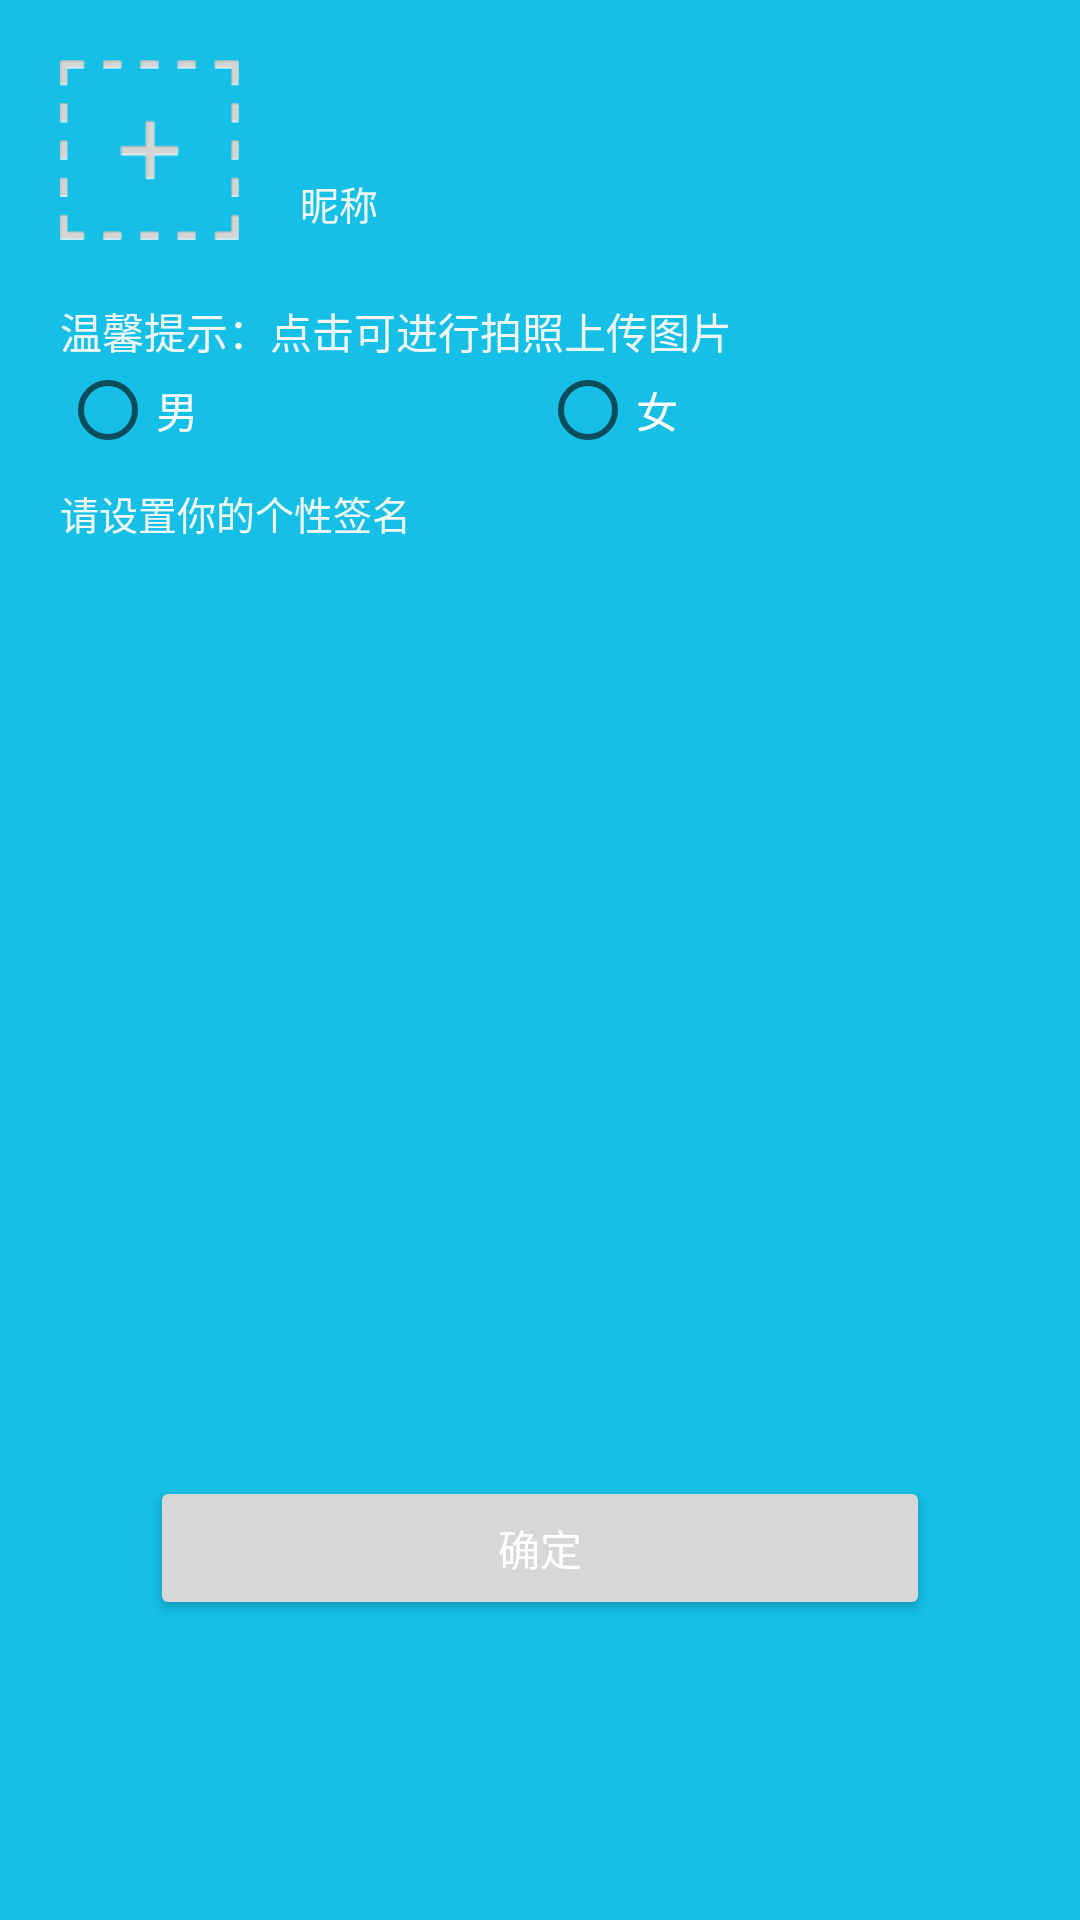

Screen size 1080x1920. Icon name, then its center in pixels as [x,y]:
add pic: [149,150]
